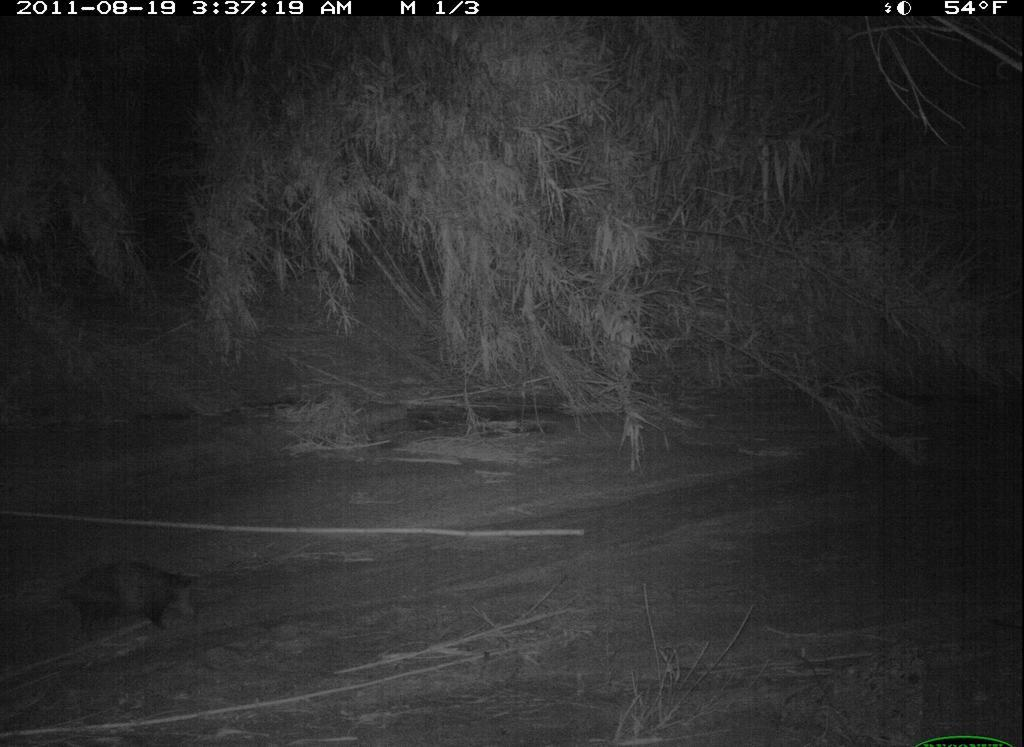opossum: (33, 537, 223, 662)
